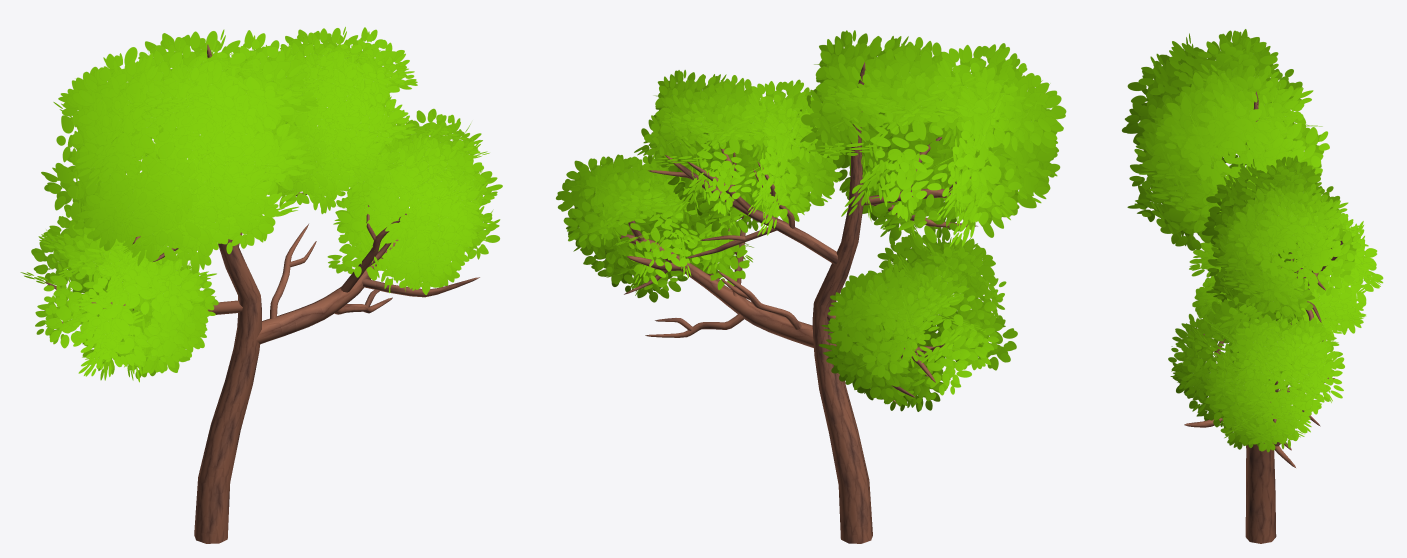
Rendered from broadleaf-tall.glb.
The picture shows the model from 3 angles, left to right: view 1: azimuth 30°, elevation 25°; view 2: azimuth 150°, elevation 25°; view 3: azimuth 270°, elevation 25°; orthographic projection. The views are drawn at different scales.
Parts seen in each view (by area): view 1: Authored structure; view 2: Authored structure; view 3: Authored structure.
Part boxes in pixels (x1,y1,x2,y2): Authored structure: (20, 27, 502, 543); Authored structure: (556, 30, 1066, 543); Authored structure: (1122, 29, 1383, 543).
Size of the model in its own units: 5.04 by 5.28 by 2.88.
2 materials, 2 textured.
